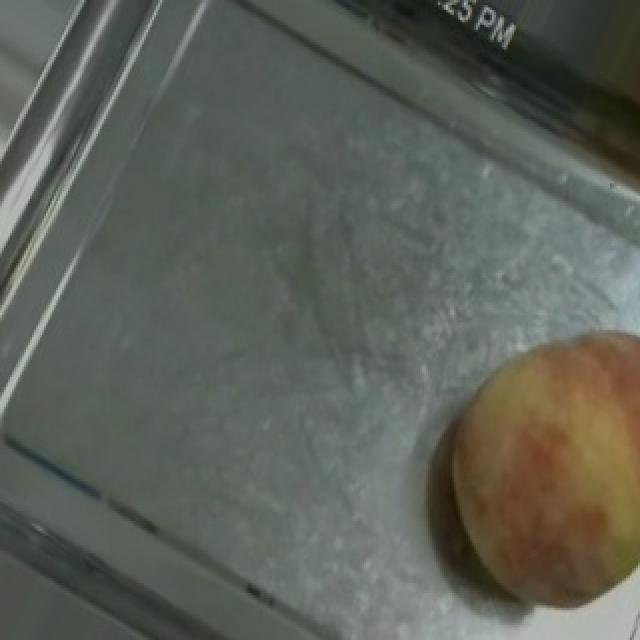Fruit: (404, 297, 640, 640)
